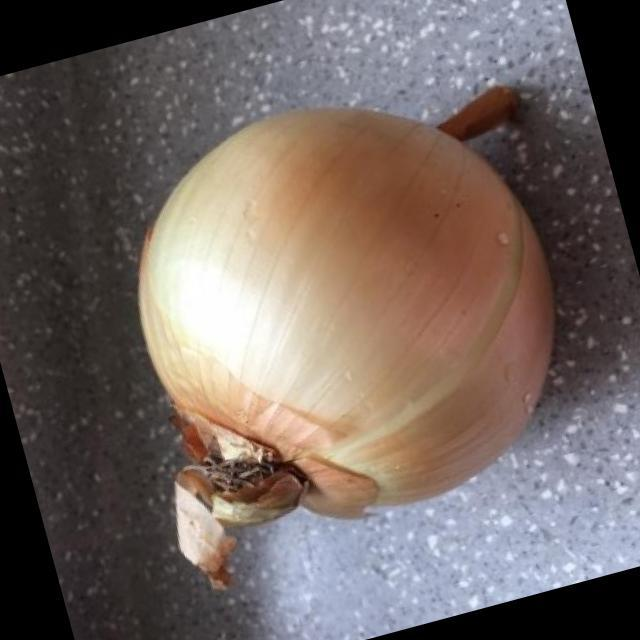Onion: (136, 107, 555, 528)
